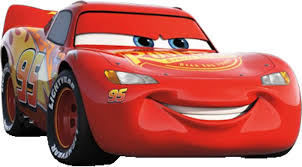mcqueen: (1, 1, 301, 167)
